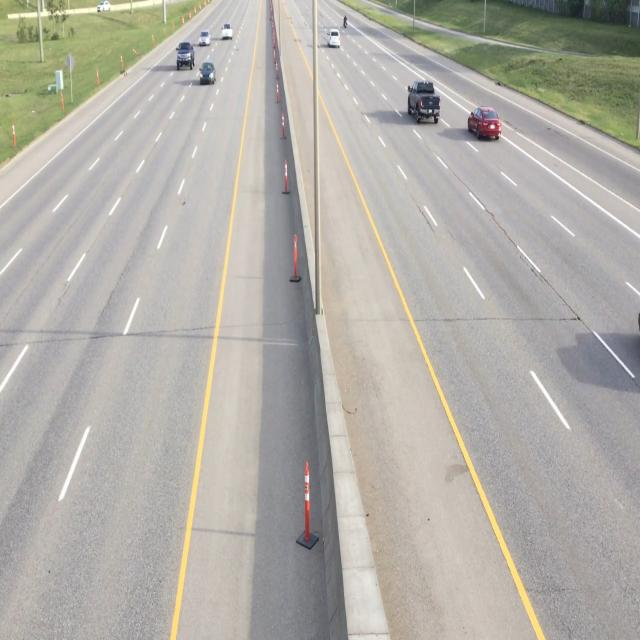Car: (408, 77, 442, 129), (468, 99, 502, 144), (176, 41, 197, 73), (199, 58, 217, 89), (326, 28, 342, 48)
